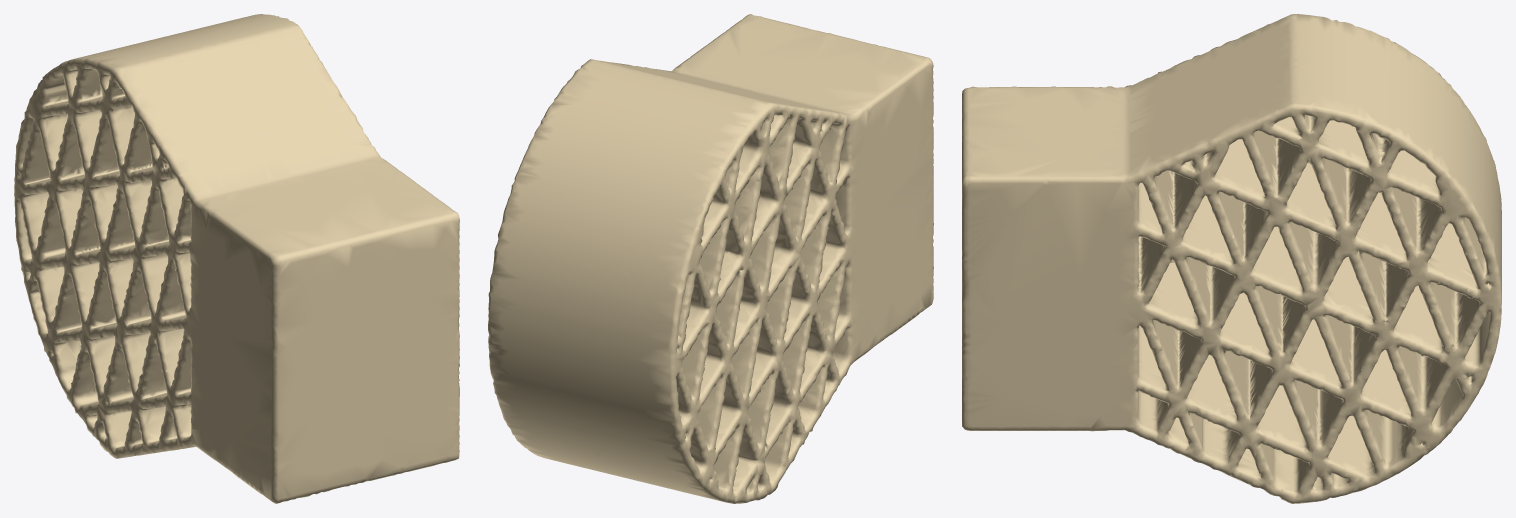
The model's file is ollie-paw-shape-095.glb.
3 views of the same model, side by side, from view 1: azimuth 30°, elevation 25°; view 2: azimuth 150°, elevation 25°; view 3: azimuth 270°, elevation 25° (orthographic). The views are drawn at different scales.
Visible parts, largest first — view 1: world; view 2: world; view 3: world.
Boxes of the visible parts, box(x1,y1,x2,y2) form: world: box(14, 14, 459, 503); world: box(488, 14, 933, 503); world: box(962, 14, 1501, 503).
Size of the model in its own units: 20 by 39.98 by 49.
